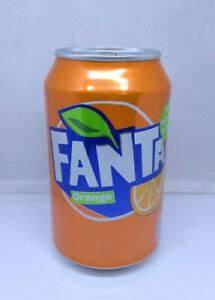metal: (45, 49, 171, 268)
